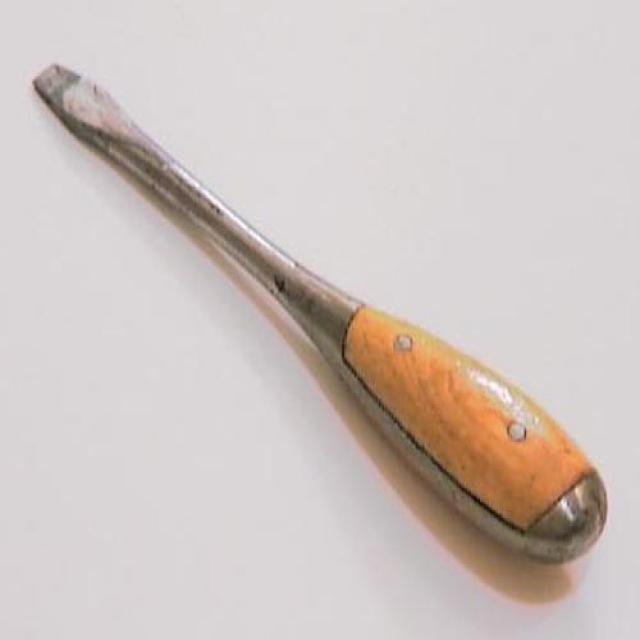screw driver: (19, 38, 640, 640)
